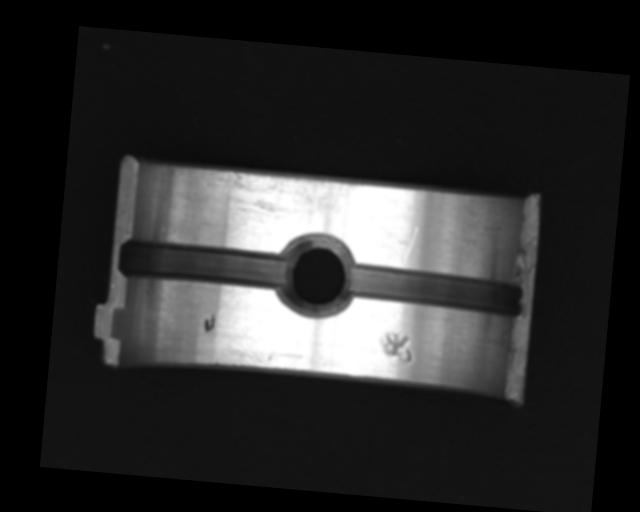blot: (203, 311, 216, 335)
bruise: (377, 330, 415, 365)
gap: (345, 261, 525, 320), (117, 238, 292, 292)
hole: (273, 231, 360, 320)
nick: (401, 225, 418, 268)
scratch: (197, 167, 364, 227)
